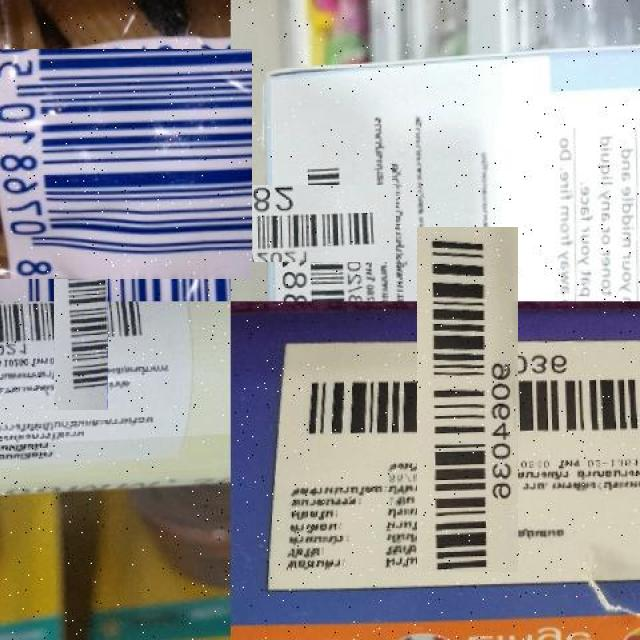Barcode: (0, 39, 242, 291), (356, 287, 579, 511), (260, 165, 377, 282), (27, 274, 136, 383)
